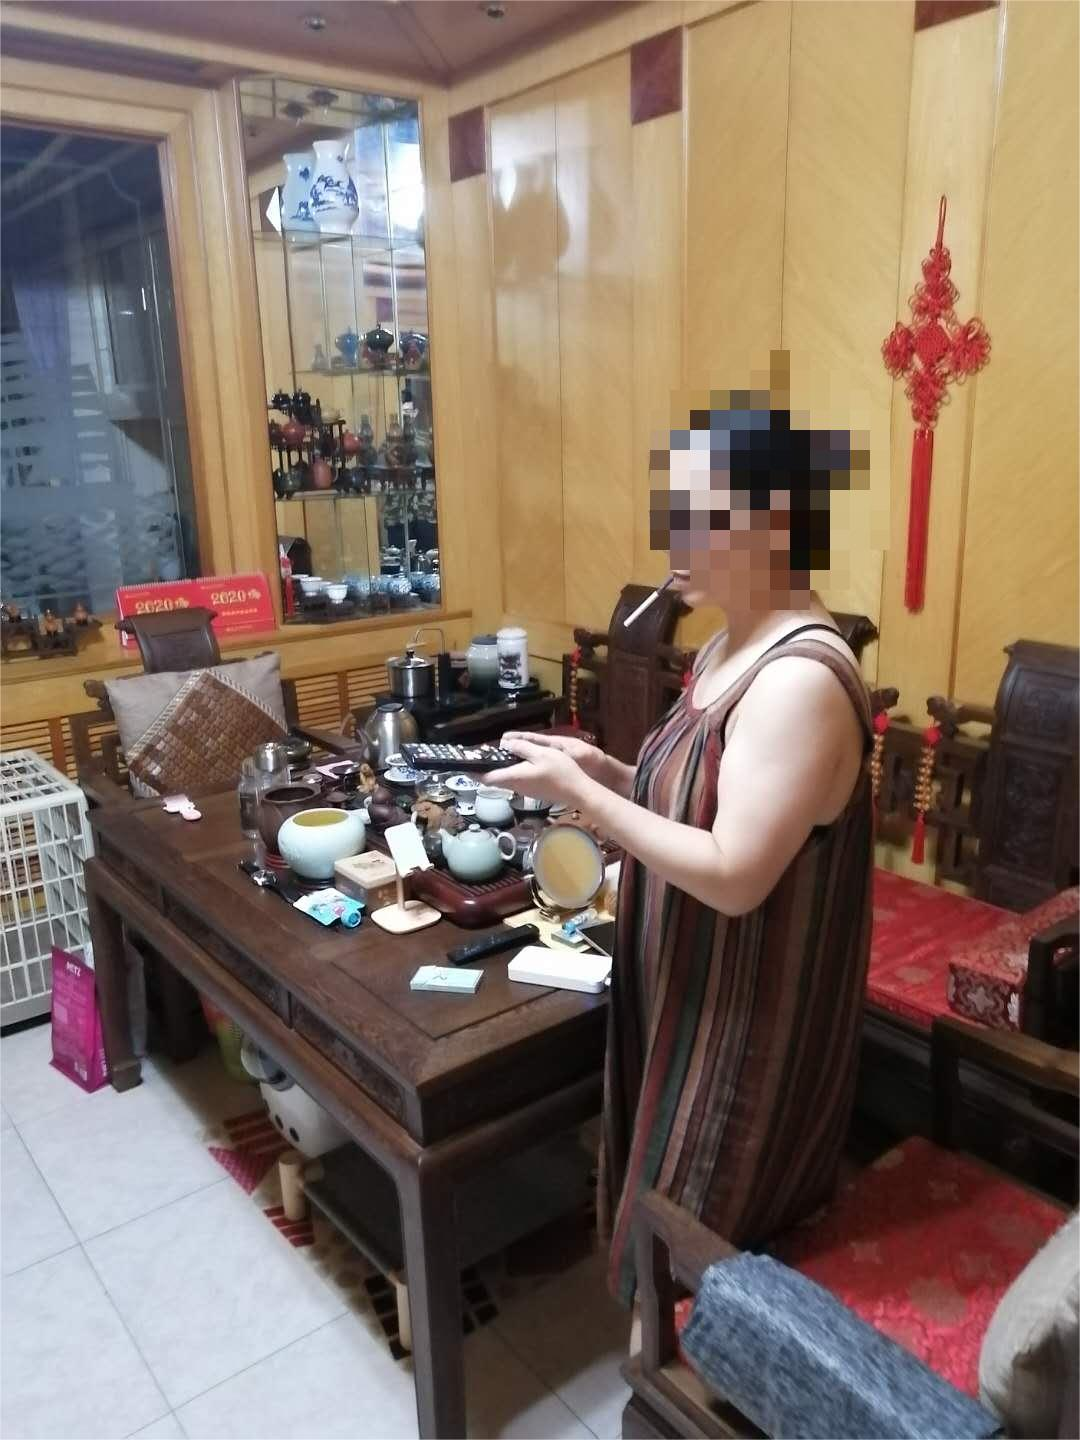smoke: (623, 573, 674, 628)
